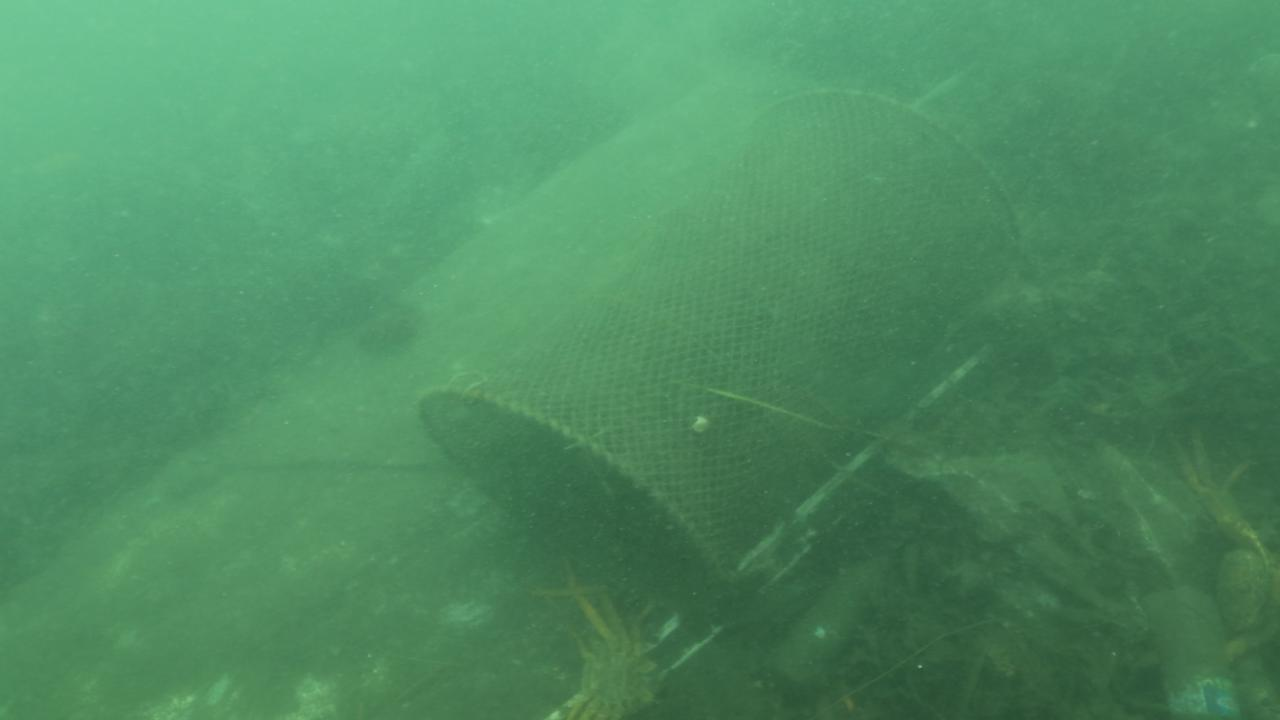spring fish trap: (412, 87, 1023, 619)
